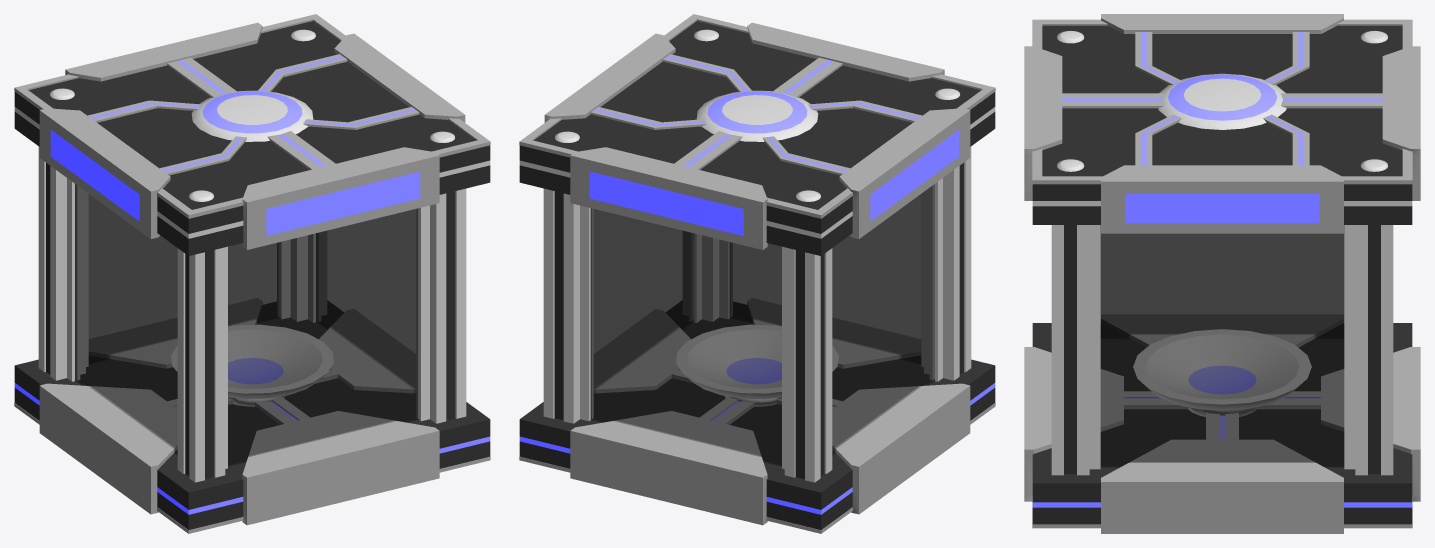
File: unmovable box.fbx
3 renders of one model, left to right at view 1: azimuth 30°, elevation 25°; view 2: azimuth 150°, elevation 25°; view 3: azimuth 270°, elevation 25°, orthographic. The views are drawn at different scales.
Parts seen in each view (by area): view 1: main_ita, glass1, glass4, kazari25, glass3, glass2, kazari1, kazari30, hashira1, hashira2, hashira4, kazari31 (+15 smaller); view 2: main_ita, glass3, glass4, kazari28, glass1, glass2, kazari29, kazari30, hashira4, hashira3, hashira1, kazari31 (+15 smaller); view 3: main_ita, glass2, glass4, kazari26, kazari27, hashira2, hashira3, sara2, kazari24, kazari25, kazari28, kazari30 (+11 smaller).
Boxes of the visible parts, x1,y1,x2,y2 form: main_ita: (14, 21, 490, 529); glass1: (228, 208, 419, 466); glass4: (75, 184, 177, 455); kazari25: (242, 396, 439, 525); glass3: (89, 194, 279, 363); glass2: (316, 209, 415, 388); kazari1: (242, 147, 439, 249); kazari30: (39, 383, 233, 514); hashira1: (177, 246, 227, 482); hashira2: (416, 188, 466, 423); hashira4: (38, 146, 88, 381); kazari31: (39, 108, 170, 238); main_ita: (519, 21, 995, 529); glass3: (590, 208, 781, 466); glass4: (832, 184, 934, 455); kazari28: (570, 396, 767, 525); glass1: (730, 194, 920, 363); glass2: (594, 209, 693, 388); kazari29: (570, 147, 767, 249); kazari30: (776, 383, 970, 514); hashira4: (782, 246, 832, 482); hashira3: (543, 188, 593, 423); hashira1: (921, 146, 971, 381); kazari31: (839, 108, 970, 238); main_ita: (1032, 25, 1412, 524); glass2: (1100, 225, 1344, 467); glass4: (1101, 234, 1343, 338); kazari26: (1101, 412, 1343, 533); kazari27: (1101, 165, 1343, 233); hashira2: (1051, 225, 1100, 475); hashira3: (1344, 225, 1393, 475); sara2: (1133, 329, 1311, 416); kazari24: (1158, 73, 1286, 129); kazari25: (1024, 347, 1188, 501); kazari28: (1256, 347, 1420, 501); kazari30: (1101, 314, 1343, 347).
Bounding box in the file's own units: 10.43 × 10.5 × 10.43.
